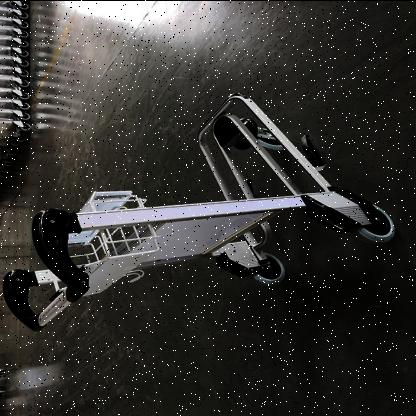airport-trolley: (0, 88, 400, 338)
